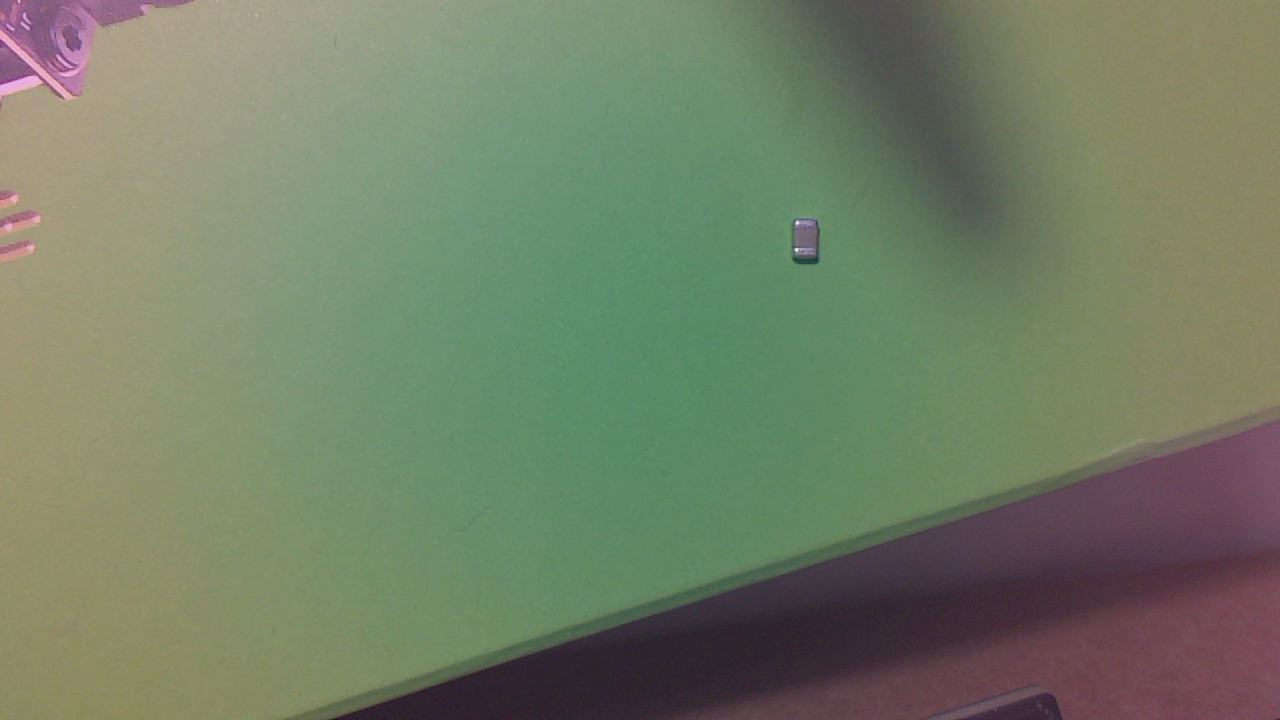Condensator: (794, 221, 827, 271)
